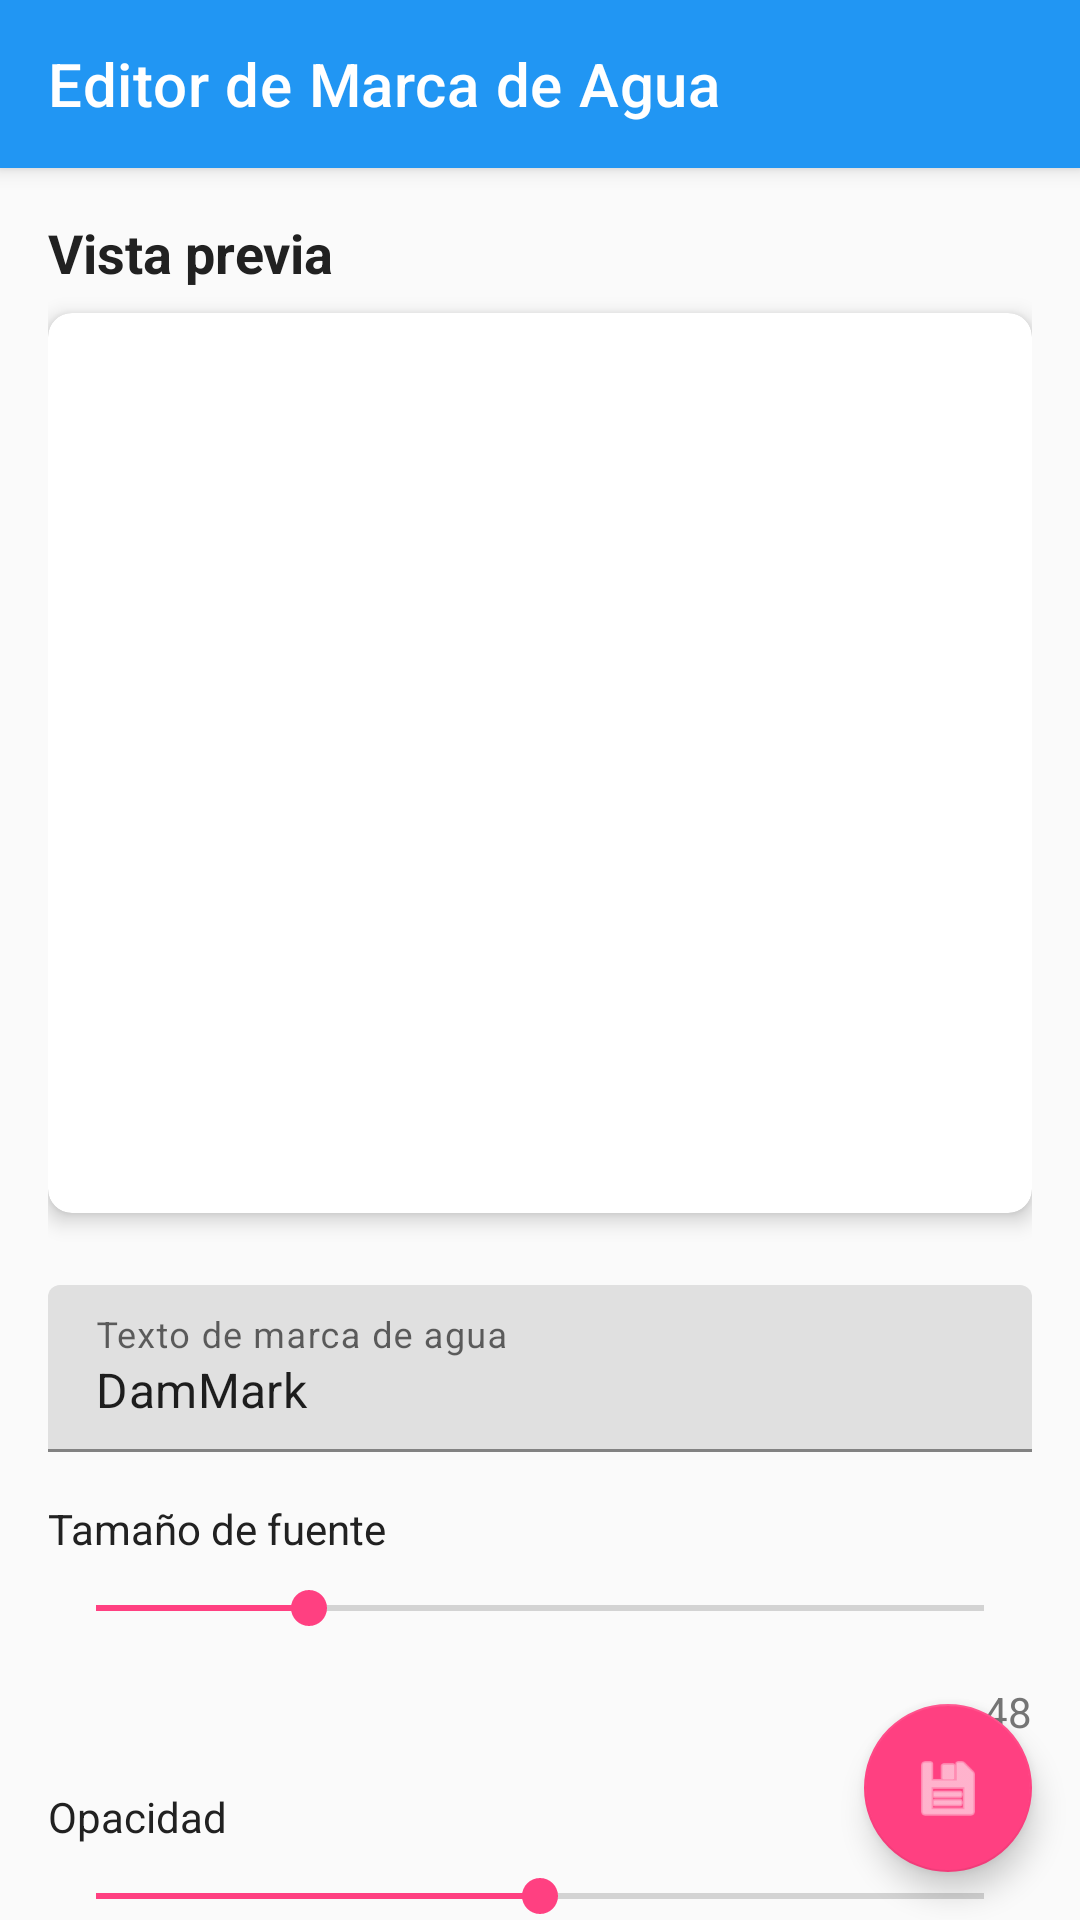

Screen size 1080×1920. Icon name, then its center in pixels as [x,y]:
Guardar: [948,1788]
